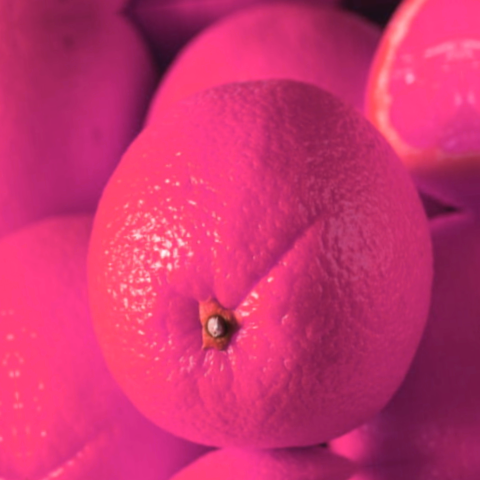orange: (21, 33, 471, 480)
